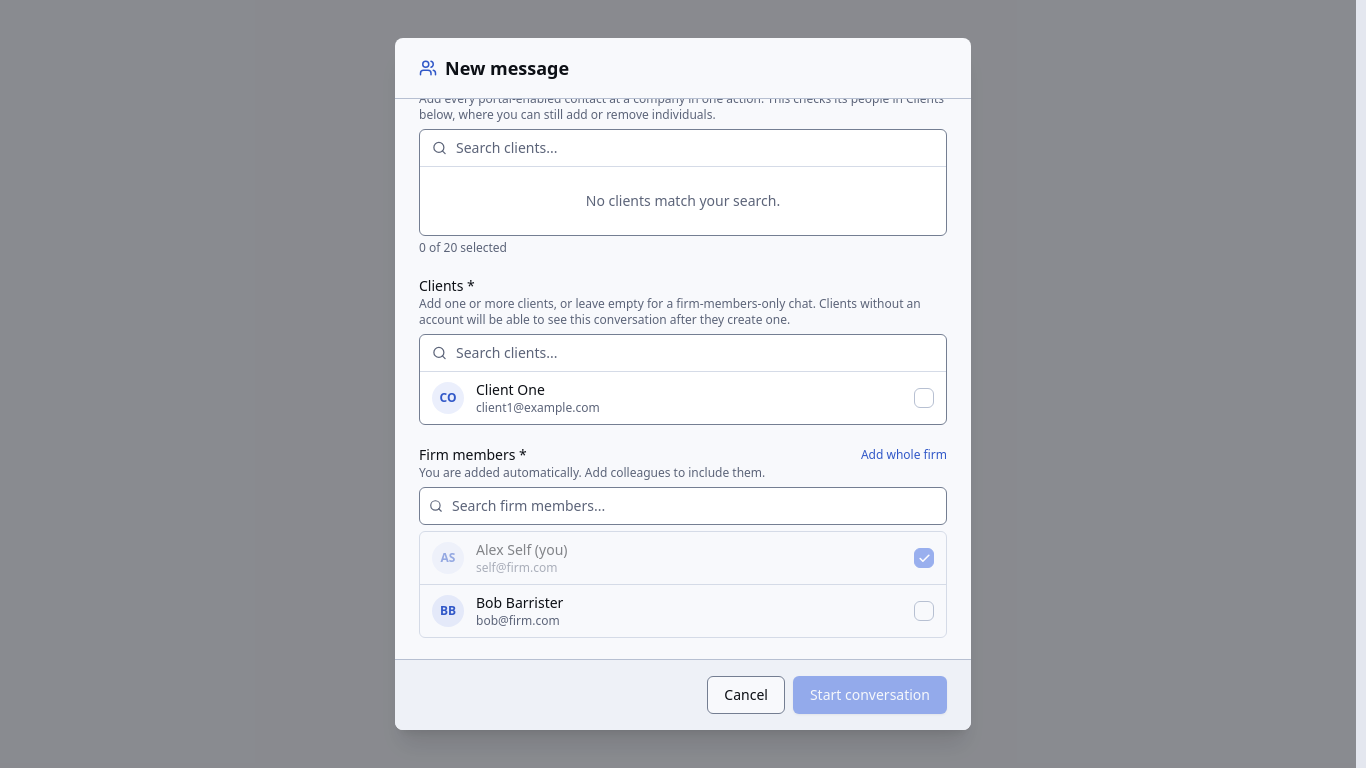
Test: NewGroupModal › the signed-in member in the firm member list › keeps the creator visible while a search excludes them
This screenshot has width=1366, height=768.
(page scrolled)
Step 1. Type "zzz" into the field with placeholder "Search firm members..." → (683, 506), box [419,487,947,525]
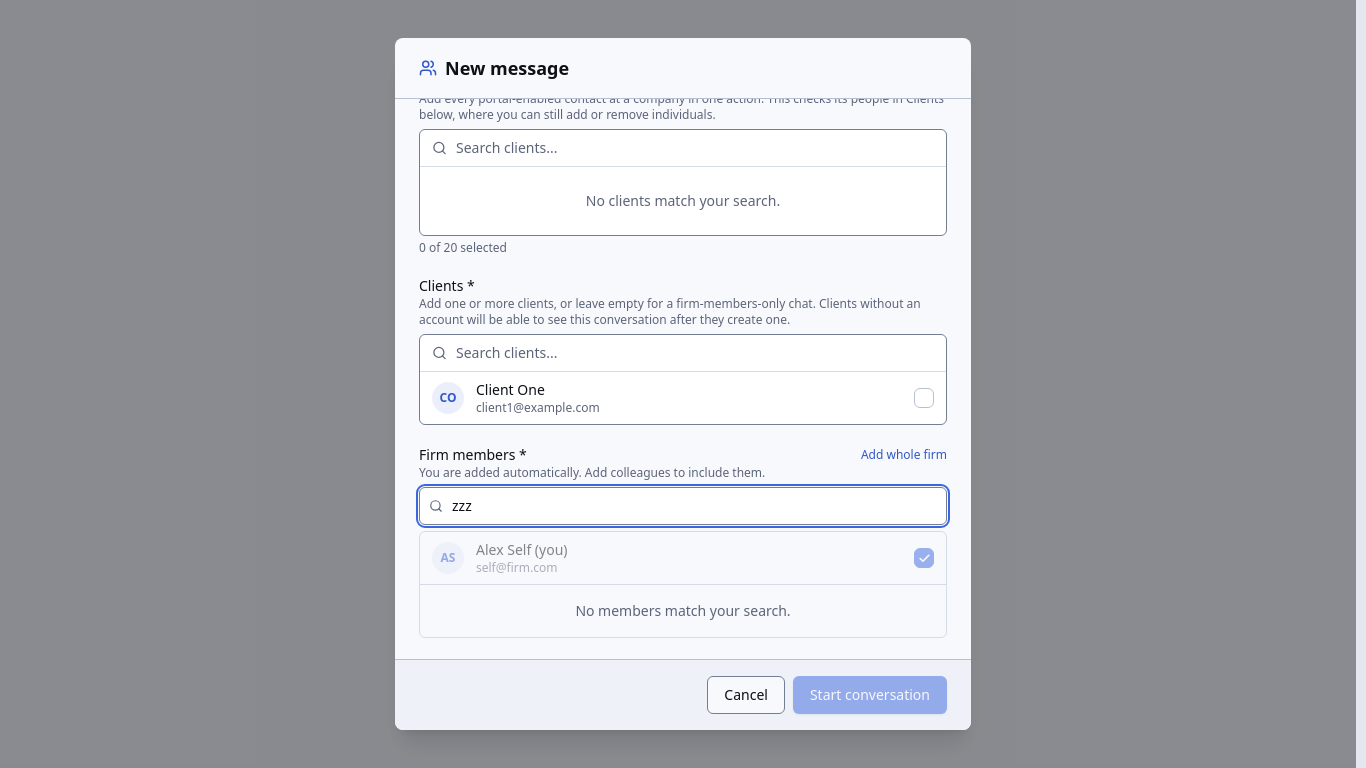
Expected: the button "AS Alex Self (you) self@firm.com" is shown, [420,532,946,584]
Expected: the button "Bob Barrister" is gone
Expected: the text "No members match your search." is shown, [420,584,946,637]
